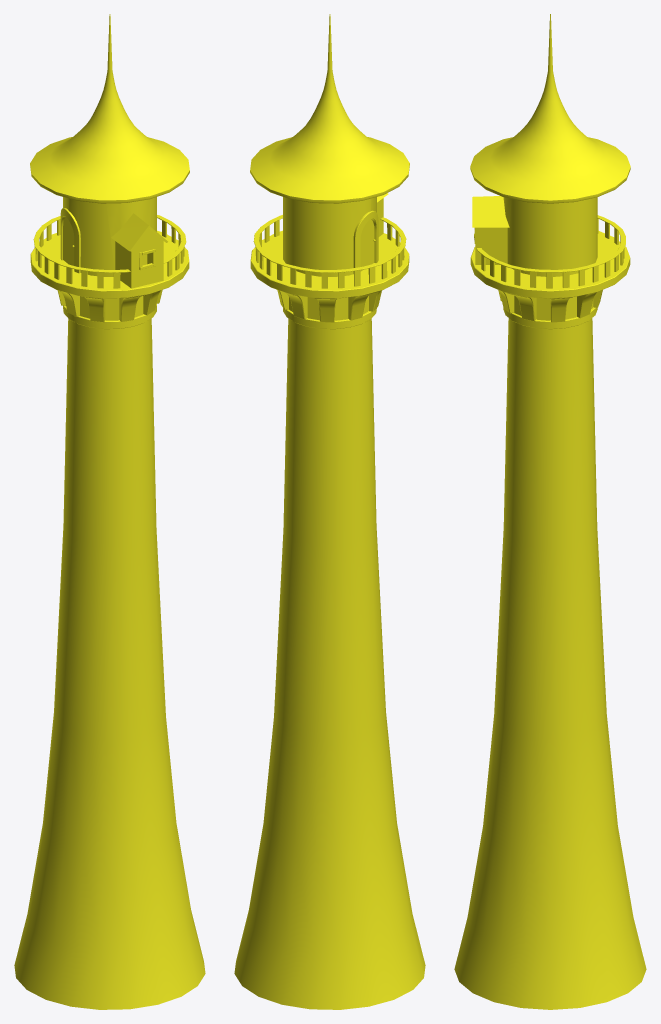
The model's file is goldTower.glb.
3 renders of one model, left to right at view 1: azimuth 30°, elevation 25°; view 2: azimuth 150°, elevation 25°; view 3: azimuth 270°, elevation 25°, orthographic.
Visible parts, largest first — view 1: FairyTower; view 2: FairyTower; view 3: FairyTower.
Boxes of the visible parts, box(x1,y1,x2,y2) form: FairyTower: box(14, 14, 205, 1009); FairyTower: box(234, 14, 425, 1009); FairyTower: box(454, 14, 646, 1009).
Size of the model in its own units: 8.65 by 47.42 by 8.65.
